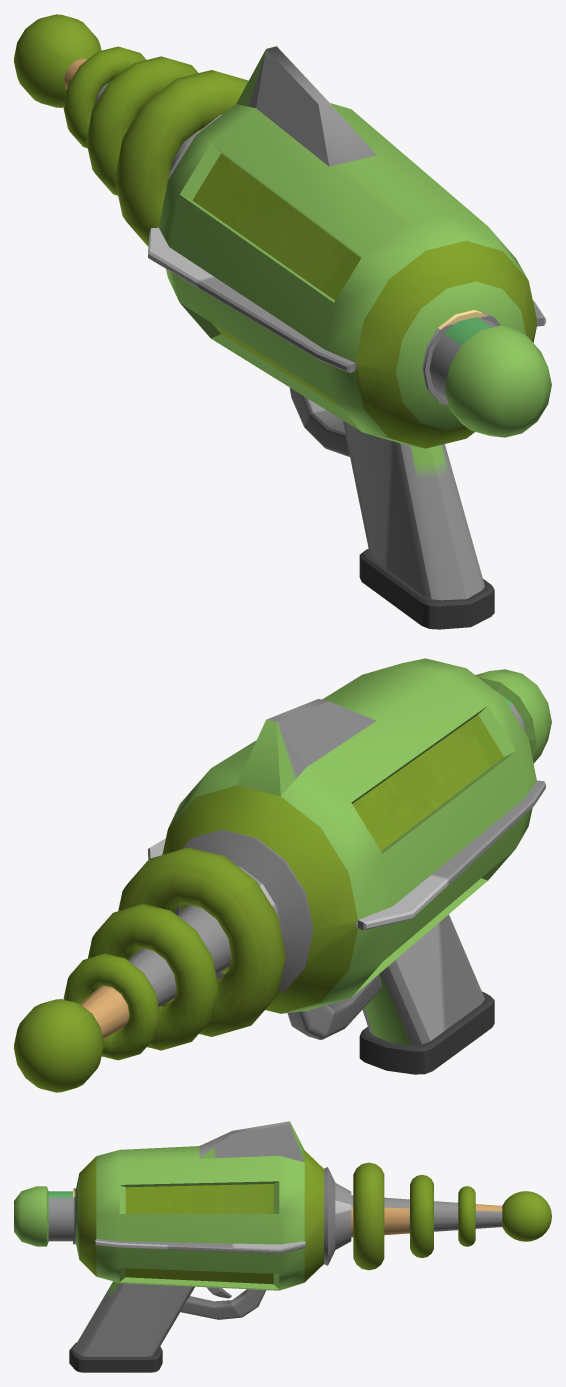
The model's file is tesla_gun.fbx.
The picture shows the model from 3 angles, top to bottom: view 1: azimuth 30°, elevation 25°; view 2: azimuth 150°, elevation 25°; view 3: azimuth 270°, elevation 25°; orthographic projection. The views are drawn at different scales.
Visible parts, largest first — view 1: zapper; view 2: zapper; view 3: zapper.
Part boxes in pixels (x1,y1,x2,y2): zapper: (14, 14, 551, 629); zapper: (14, 658, 551, 1092); zapper: (14, 1121, 551, 1372).
Bounding box in the file's own units: 2.07 × 3.24 × 6.56.
